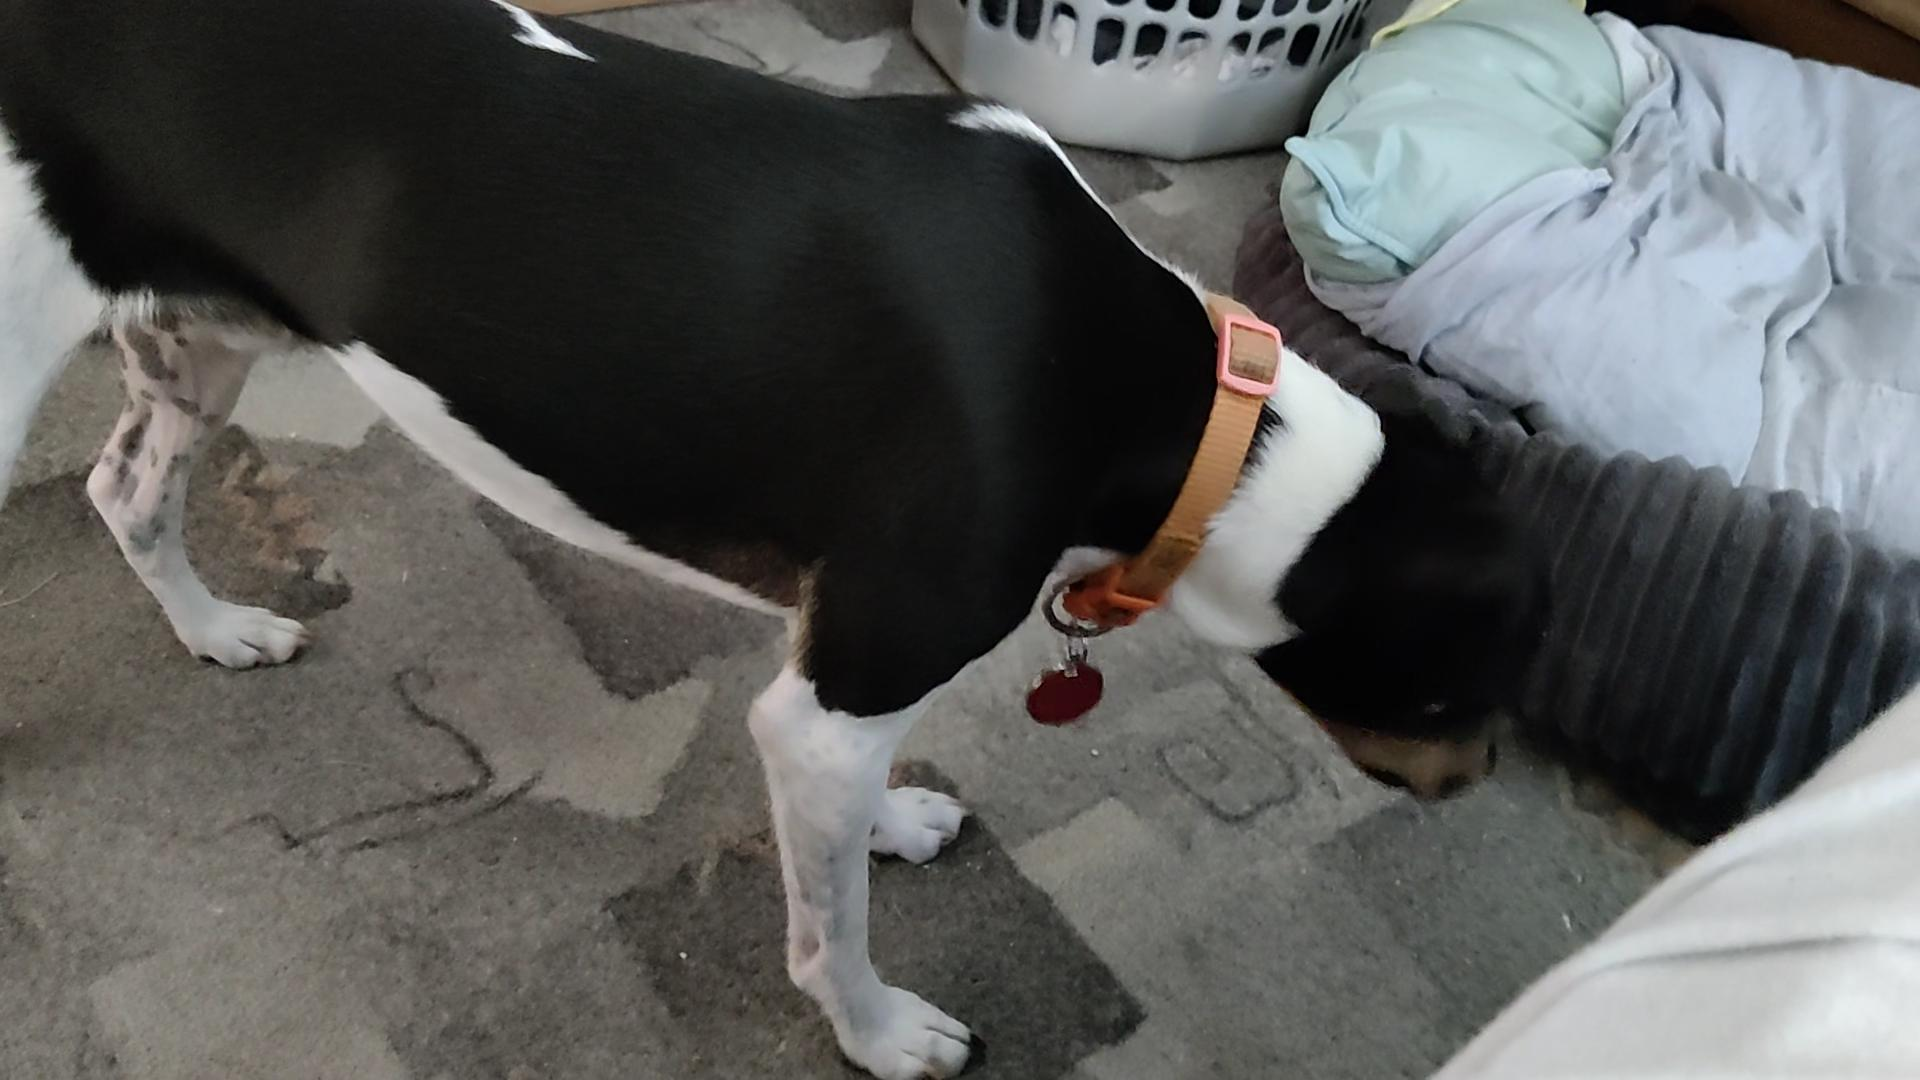Dog: (0, 0, 1567, 1080)
